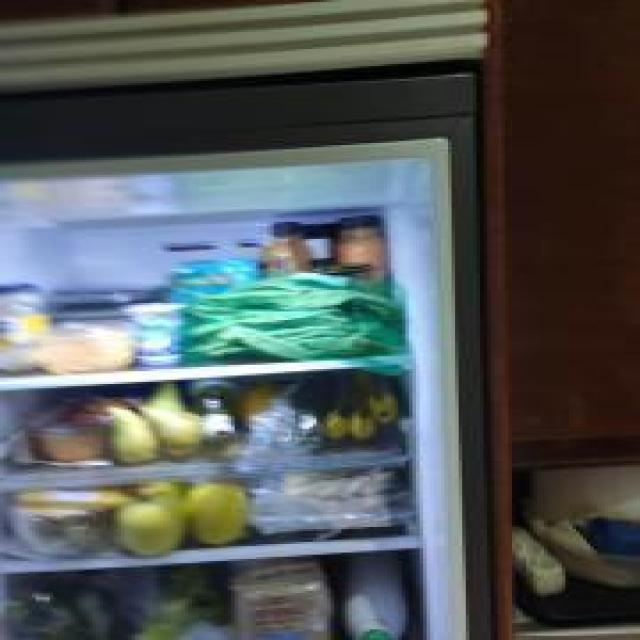apple: (114, 490, 188, 560), (183, 477, 251, 547)
banana: (348, 374, 377, 440), (322, 376, 350, 440), (368, 374, 400, 424)
bread: (224, 557, 334, 640)
broccoli: (132, 561, 232, 640)
cheese: (281, 472, 395, 499)
green_beans: (182, 278, 412, 376)
humus: (9, 399, 137, 467), (34, 324, 137, 374)
lemon: (240, 382, 283, 429)
mayonaise: (0, 282, 50, 378)
milk: (343, 548, 411, 640)
pear: (128, 398, 206, 460), (98, 399, 162, 465), (146, 380, 188, 414)
pineapple: (78, 486, 139, 561)
yogurt: (122, 304, 190, 368)
